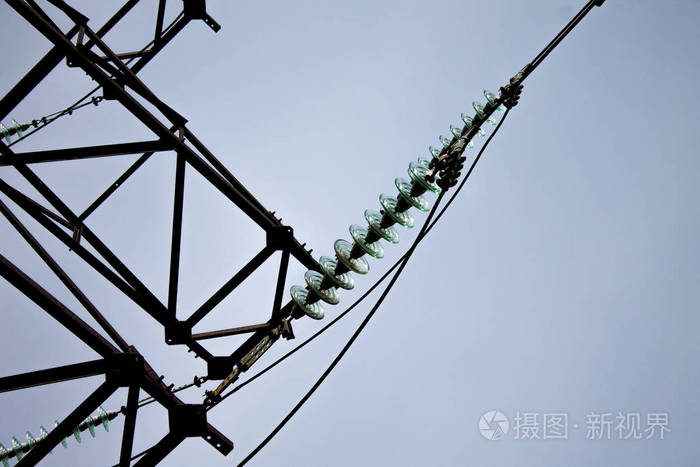insulator: (291, 166, 435, 319), (1, 405, 115, 463), (429, 86, 504, 161), (1, 114, 25, 147)
